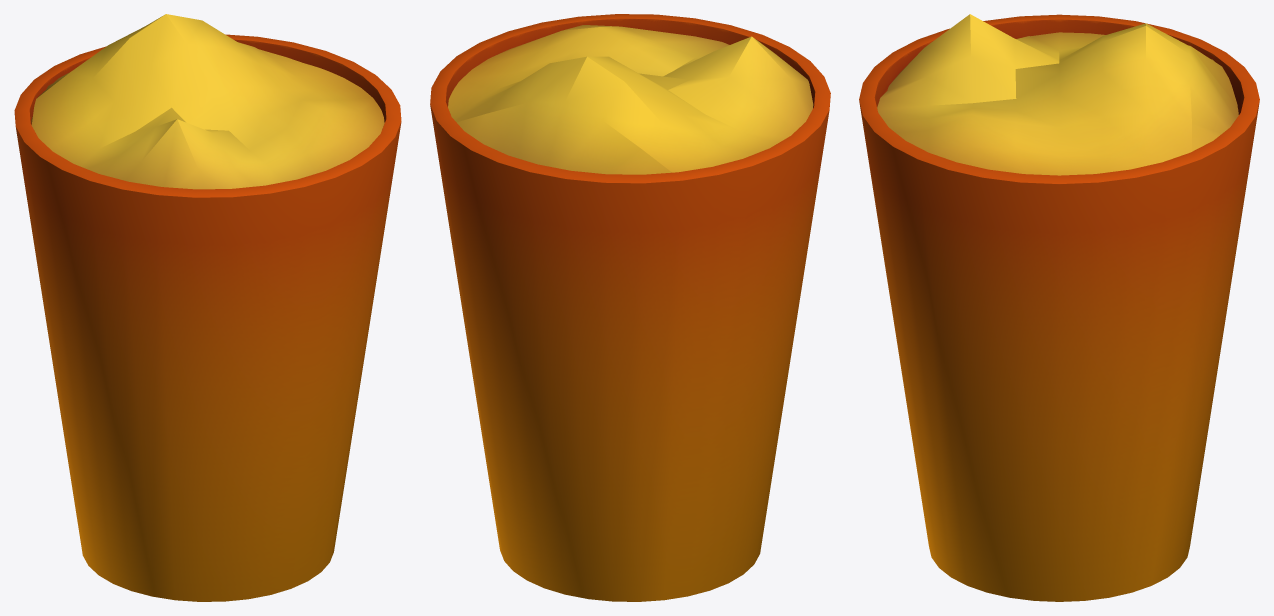
Rendered from beer1.glb.
3 renders of one model, left to right at view 1: azimuth 30°, elevation 25°; view 2: azimuth 150°, elevation 25°; view 3: azimuth 270°, elevation 25°, orthographic. The views are drawn at different scales.
Parts seen in each view (by area): view 1: Plane.001; view 2: Plane.001; view 3: Plane.001.
Part boxes in pixels (x1,y1,x2,y2): Plane.001: (14, 14, 401, 601); Plane.001: (430, 14, 830, 601); Plane.001: (859, 14, 1259, 601).
Bounding box in the file's own units: 0.1082 × 0.1552 × 0.1082.
Materials: 1 (1 with a texture image).
